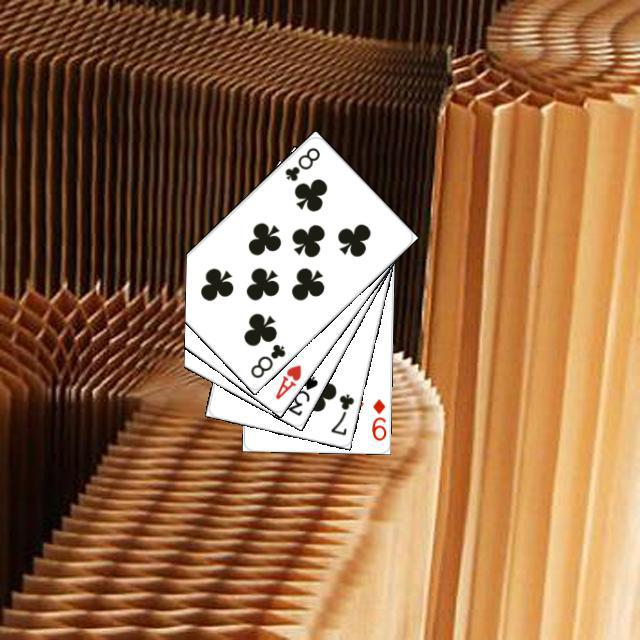3s: (283, 371, 320, 418)
7c: (326, 389, 356, 437)
8c: (245, 339, 287, 380), (280, 142, 322, 183)
9d: (367, 394, 387, 442)
Ah: (270, 359, 303, 401)
